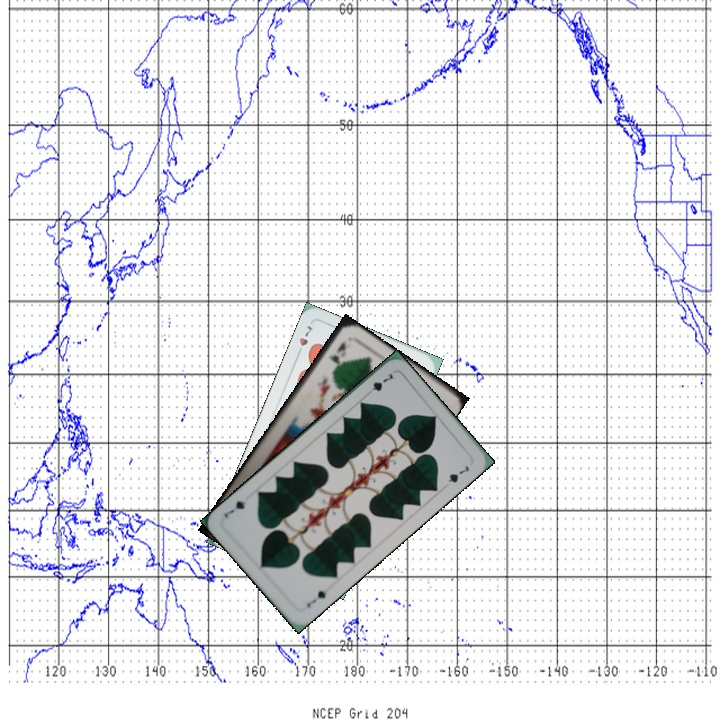G7: (361, 369, 398, 399), (302, 586, 329, 610)
GK: (324, 336, 349, 367)
H7: (293, 321, 314, 359)
